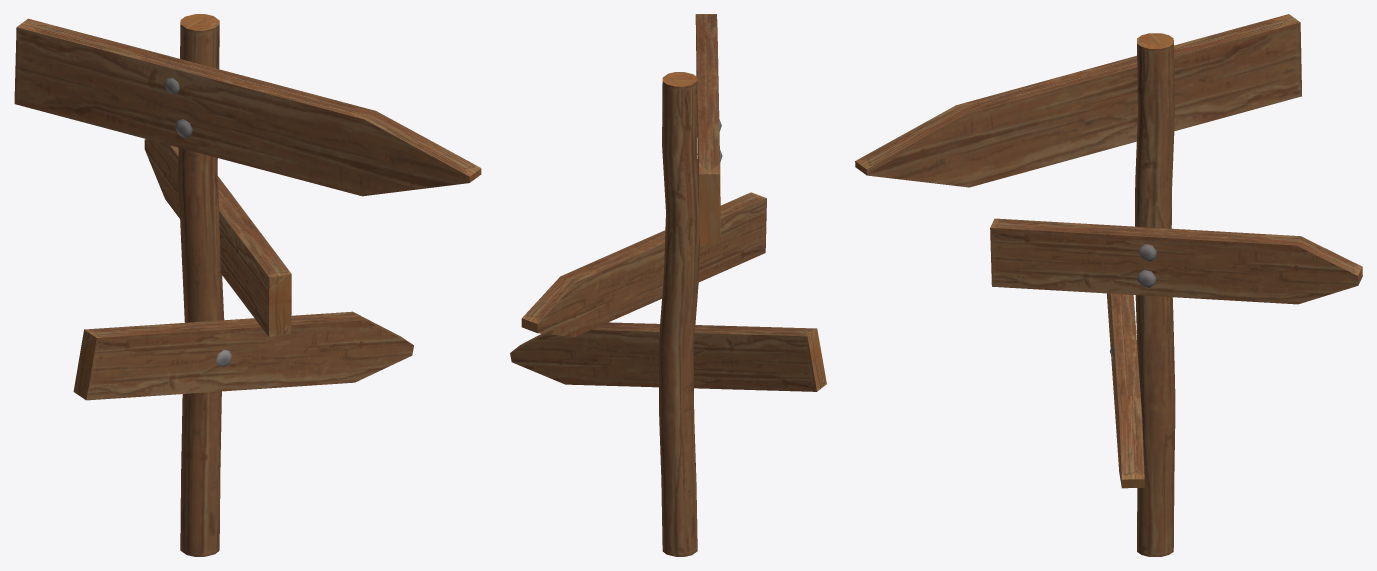
File: SM_Farm_Sign_03.fbx
The picture shows the model from 3 angles, left to right: view 1: azimuth 30°, elevation 25°; view 2: azimuth 150°, elevation 25°; view 3: azimuth 270°, elevation 25°; orthographic projection. The views are drawn at different scales.
Parts seen in each view (by area): view 1: SM_Farm_Sign_03_LOD0; view 2: SM_Farm_Sign_03_LOD0; view 3: SM_Farm_Sign_03_LOD0.
Part boxes in pixels (left/top/right/bottom): SM_Farm_Sign_03_LOD0: left=14, top=14, right=481, bottom=556; SM_Farm_Sign_03_LOD0: left=510, top=14, right=826, bottom=556; SM_Farm_Sign_03_LOD0: left=855, top=14, right=1362, bottom=556.
Bounding box in the file's own units: 105 × 157 × 143.
